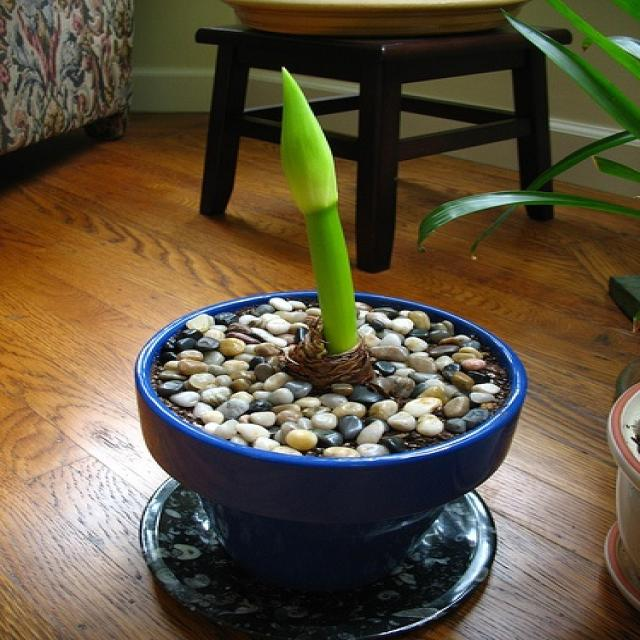pottedplant: (137, 65, 528, 589)
